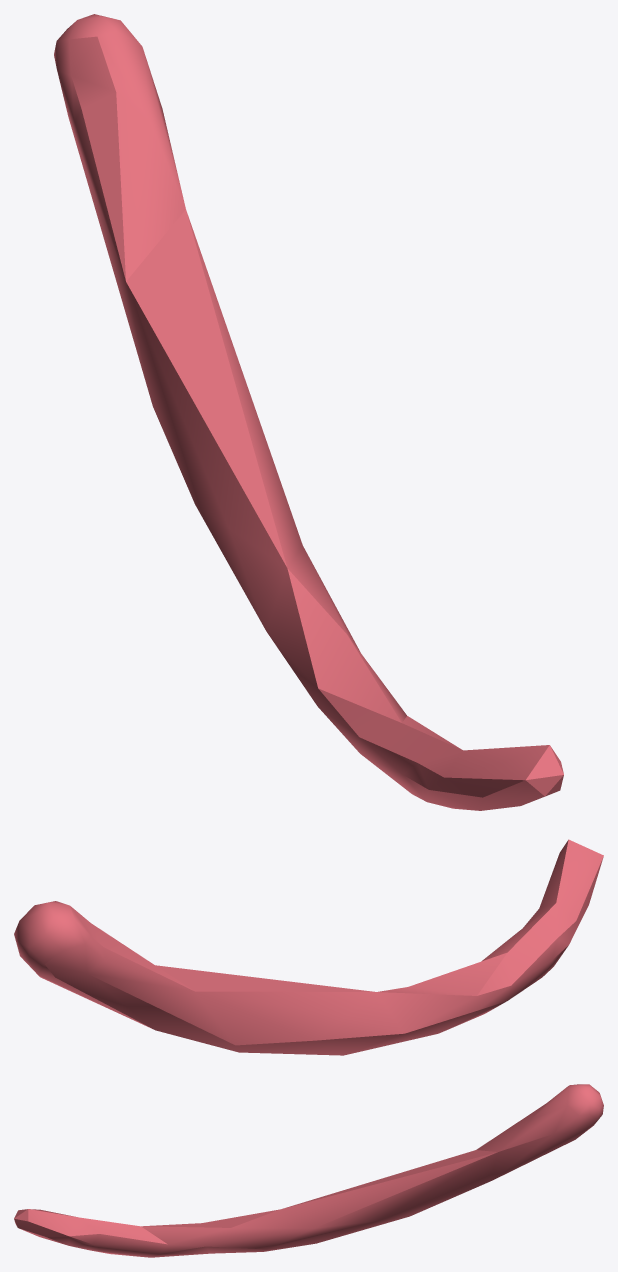
File: fma3895_fj3665.glb
The picture shows the model from 3 angles, top to bottom: view 1: azimuth 30°, elevation 25°; view 2: azimuth 150°, elevation 25°; view 3: azimuth 270°, elevation 25°; orthographic projection. The views are drawn at different scales.
Visible parts, largest first — view 1: FMA3895_FJ3665; view 2: FMA3895_FJ3665; view 3: FMA3895_FJ3665.
Boxes of the visible parts, <box> form: FMA3895_FJ3665: <box>54,14,563,810</box>; FMA3895_FJ3665: <box>14,839,603,1055</box>; FMA3895_FJ3665: <box>14,1084,603,1257</box>.
Size of the model in its own units: 0.00232 by 0.00439 by 0.0115.
